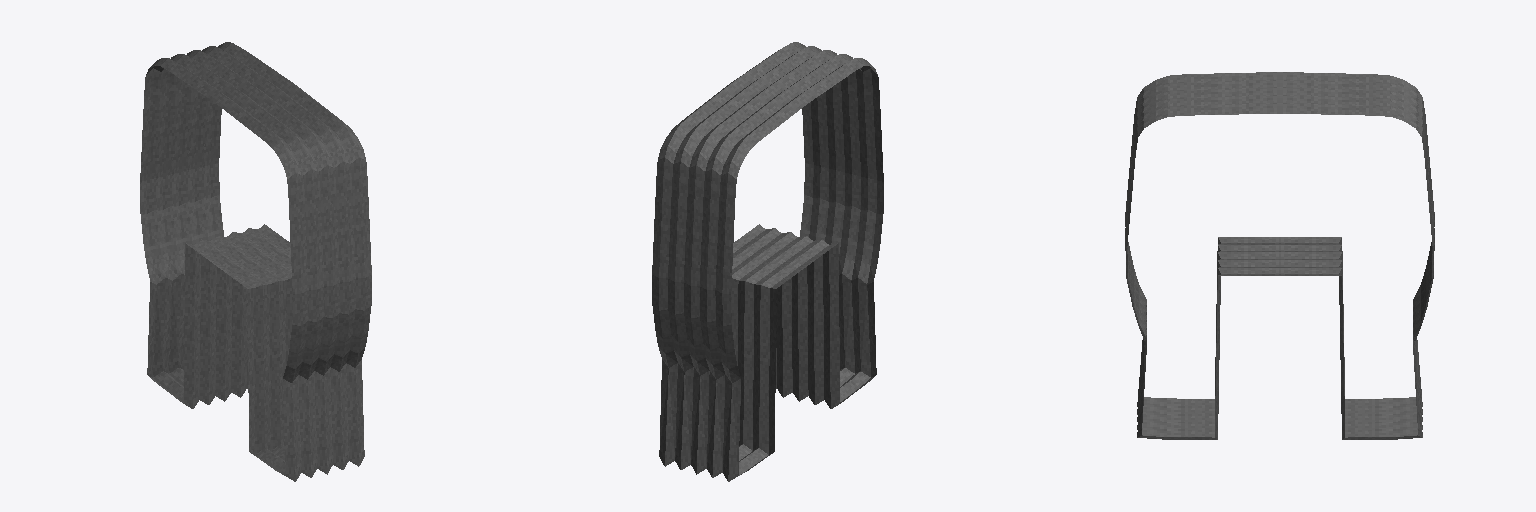
3 renders of one model, left to right at view 1: azimuth 30°, elevation 25°; view 2: azimuth 150°, elevation 25°; view 3: azimuth 270°, elevation 25°, orthographic.
Visible parts, largest first — view 1: FRAME_diaphragm_Cube.020; view 2: FRAME_diaphragm_Cube.020; view 3: FRAME_diaphragm_Cube.020.
Part boxes in pixels (x1,y1,x2,y2): FRAME_diaphragm_Cube.020: (140, 42, 371, 481); FRAME_diaphragm_Cube.020: (652, 42, 883, 481); FRAME_diaphragm_Cube.020: (1125, 72, 1434, 439).
Size of the model in its own units: 0.762 by 3.1 by 2.58.
1 materials, 1 textured.